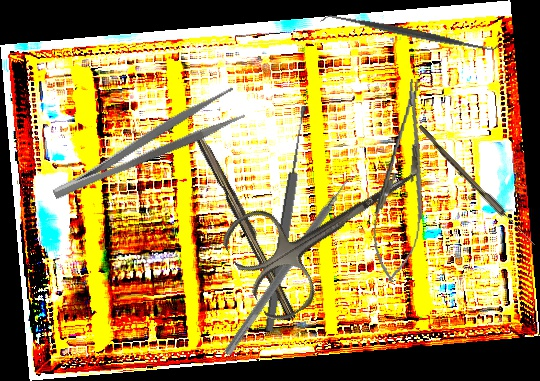Dressing Forceps: (43, 85, 247, 205)
Iris Scissors: (215, 127, 448, 328)
Needle Holder: (366, 76, 440, 285)
Scalpel Handle: (192, 132, 302, 321)
Spatula Surgical: (222, 166, 364, 362), (319, 4, 500, 62)
Surgical Spoon: (415, 124, 538, 248), (262, 104, 312, 333)
